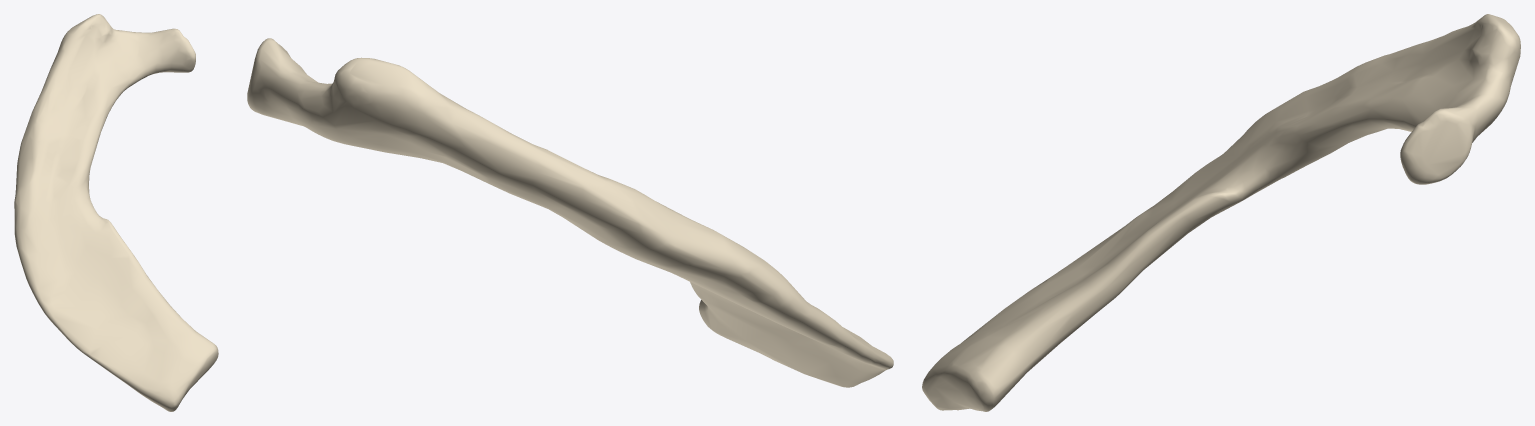
The model's file is first-rib-r.glb.
3 renders of one model, left to right at view 1: azimuth 30°, elevation 25°; view 2: azimuth 150°, elevation 25°; view 3: azimuth 270°, elevation 25°, orthographic. The views are drawn at different scales.
Visible parts, largest first — view 1: First rib.r; view 2: First rib.r; view 3: First rib.r.
Boxes of the visible parts, x1=… form: First rib.r: x1=14, y1=14, x2=218, y2=411; First rib.r: x1=247, y1=38, x2=893, y2=387; First rib.r: x1=922, y1=14, x2=1520, y2=411.
Size of the model in its own units: 0.0549 by 0.0594 by 0.0707.
